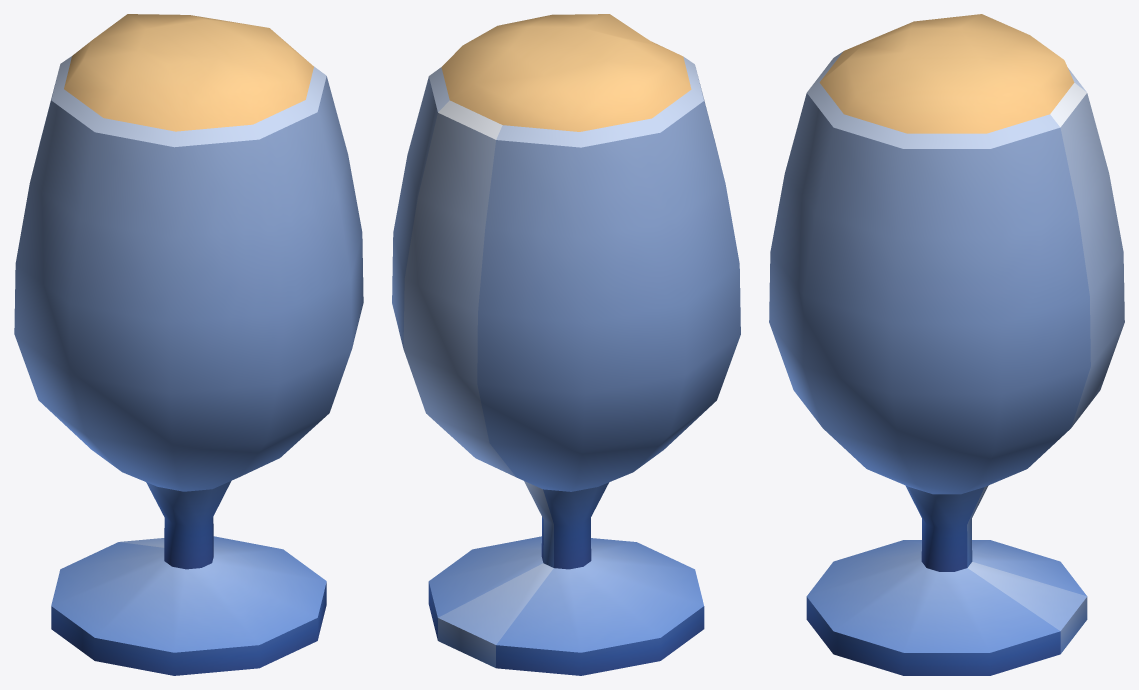
Rendered from m_StoutBeer01.fbx.
3 views of the same model, side by side, from view 1: azimuth 30°, elevation 25°; view 2: azimuth 150°, elevation 25°; view 3: azimuth 270°, elevation 25° (orthographic).
Parts seen in each view (by area): view 1: m_StoutBeer01; view 2: m_StoutBeer01; view 3: m_StoutBeer01.
Part boxes in pixels (x1,y1,x2,y2): m_StoutBeer01: (14, 14, 363, 675); m_StoutBeer01: (392, 14, 740, 675); m_StoutBeer01: (769, 14, 1124, 675).
Size of the model in its own units: 13.25 by 24.74 by 13.94.
